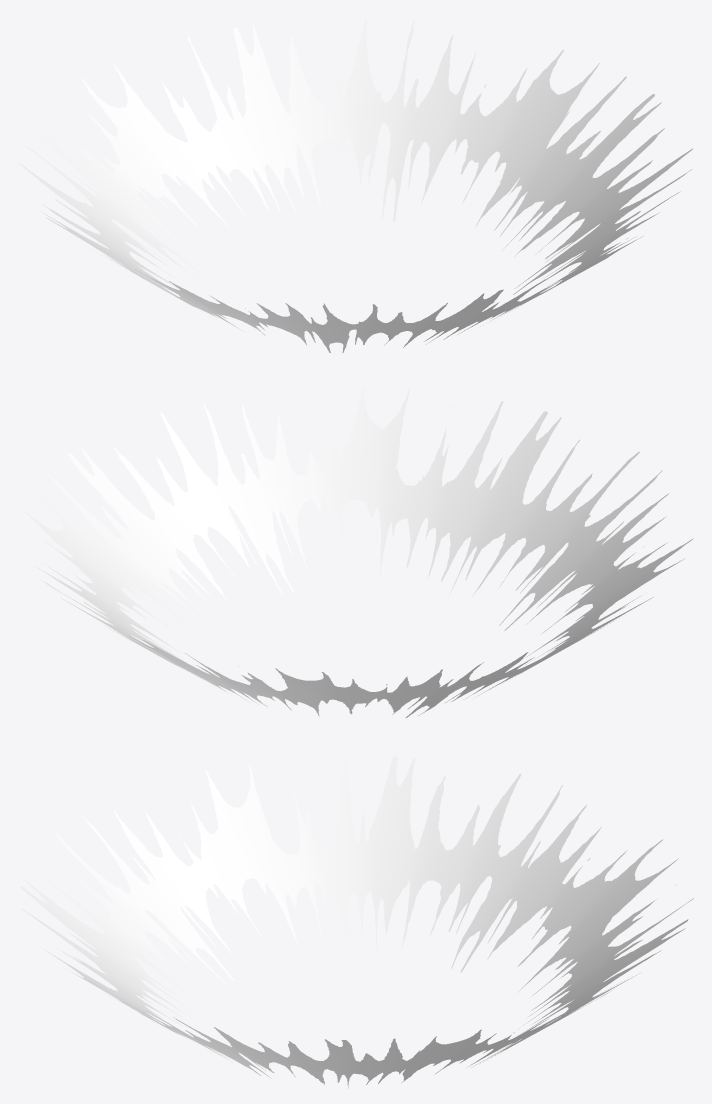
File: MS_ShockWave.fbx
The picture shows the model from 3 angles, top to bottom: view 1: azimuth 30°, elevation 25°; view 2: azimuth 150°, elevation 25°; view 3: azimuth 270°, elevation 25°; orthographic projection.
Visible parts, largest first — view 1: pCylinder1; view 2: pCylinder1; view 3: pCylinder1.
Boxes of the visible parts, x1=… form: pCylinder1: x1=19, y1=19, x2=692, y2=352; pCylinder1: x1=22, y1=387, x2=693, y2=717; pCylinder1: x1=20, y1=755, x2=693, y2=1088.
Bounding box in the file's own units: 97.05 × 20 × 97.05.
1 material, 1 textured.
